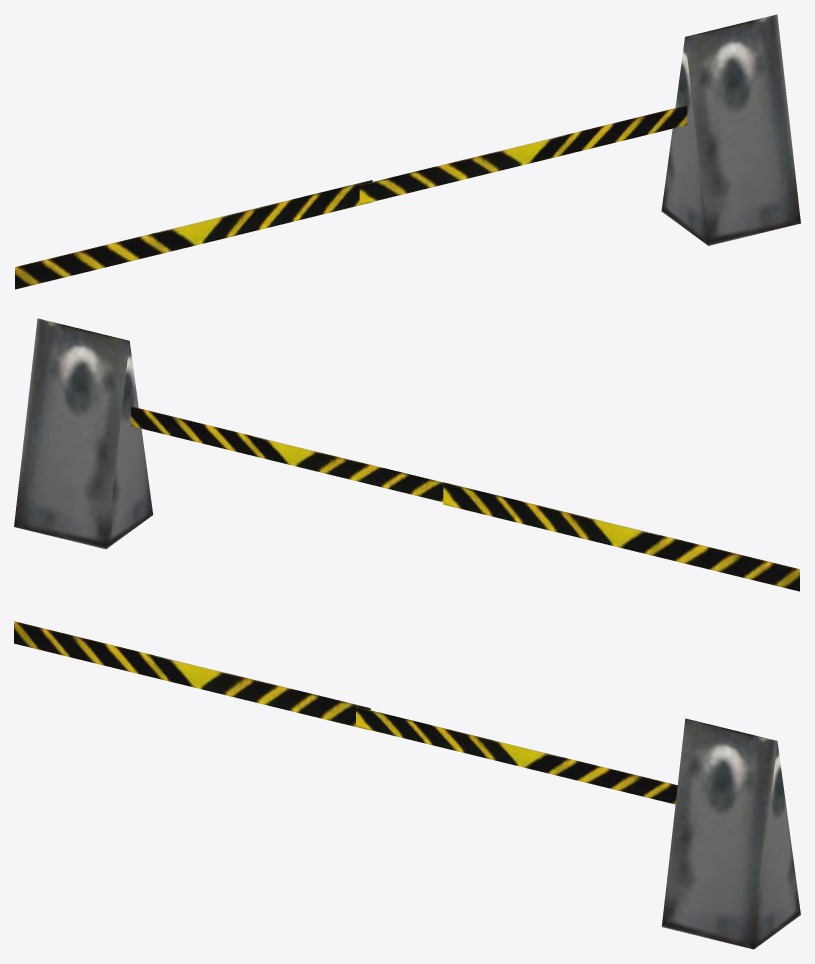
File: milcheckpoint_hdtex.glb
3 views of the same model, one above another, from view 1: azimuth 30°, elevation 25°; view 2: azimuth 150°, elevation 25°; view 3: azimuth 330°, elevation 25° (orthographic).
Parts seen in each view (by area): view 1: MilitaryCheckHolder, gate_a, gate_b; view 2: MilitaryCheckHolder, gate_a, gate_b; view 3: MilitaryCheckHolder, gate_a, gate_b.
Boxes of the visible parts, x1,y1,x2,y2 form: MilitaryCheckHolder: (661,14,800,245); gate_a: (15,180,372,289); gate_b: (359,105,687,204); MilitaryCheckHolder: (14,318,153,549); gate_a: (443,482,799,591); gate_b: (131,406,443,502); MilitaryCheckHolder: (661,718,800,949); gate_a: (14,621,370,730); gate_b: (356,707,677,804).
Bounding box in the file's own units: 6.54 × 1.57 × 0.6999.
1 material, 1 textured.
